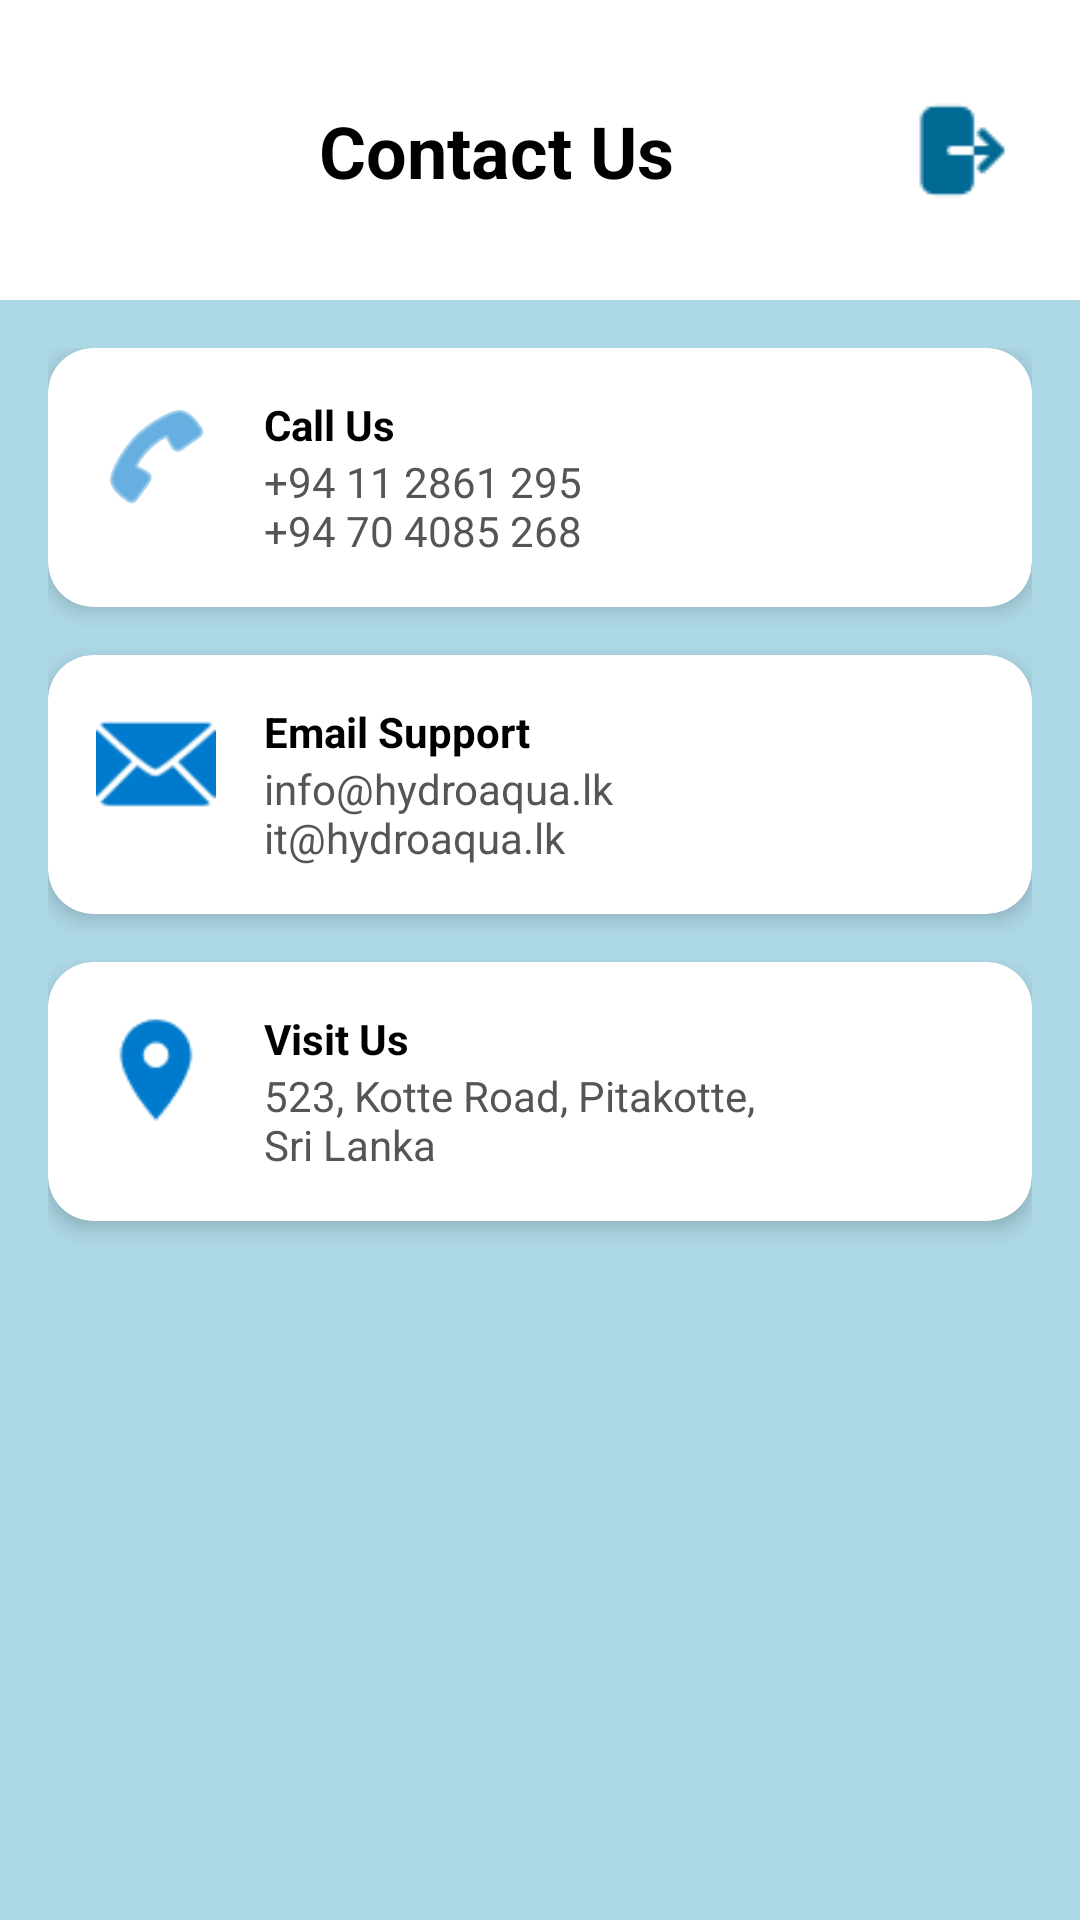

Where to tap for icons on this 1080w x 1920h app screen, as point (x, y):
location: point (156, 1070)
